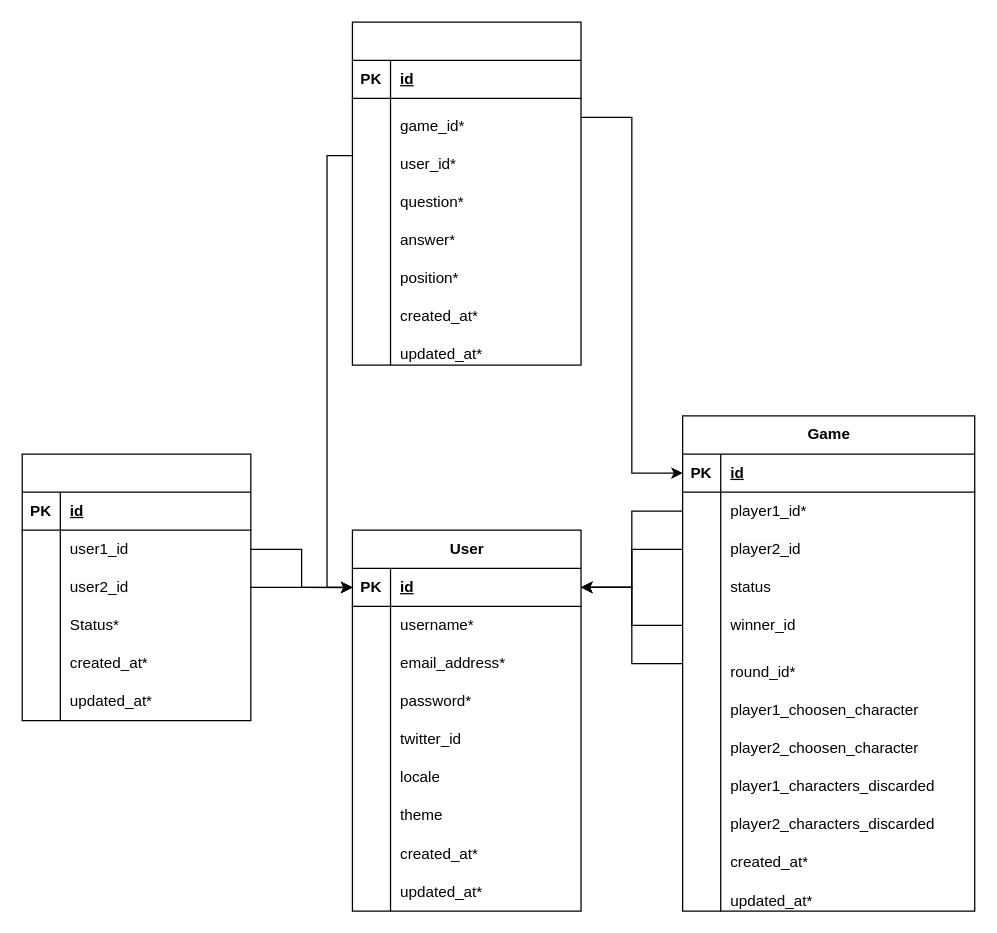
This 997x933 diagram has some shape labels left out. Each missing label, with the box of its shape:
Friend: (21, 453, 251, 721)
Move: (351, 21, 581, 365)
